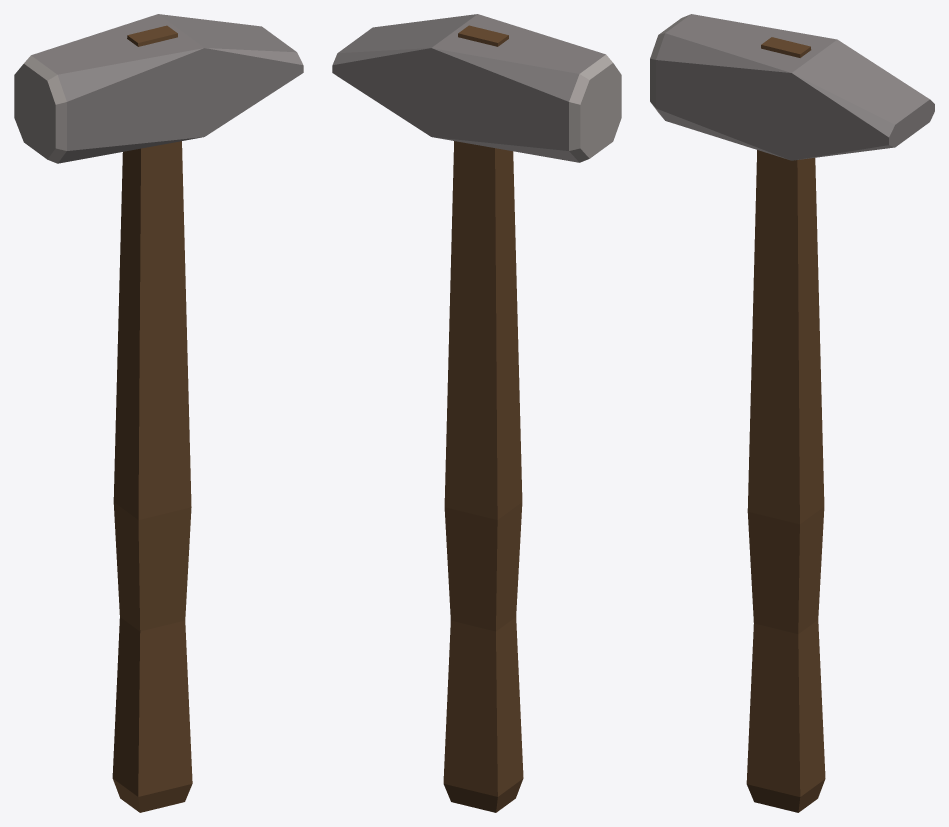
Rendered from tools_hammer.fbx.
The picture shows the model from 3 angles, left to right: view 1: azimuth 30°, elevation 25°; view 2: azimuth 150°, elevation 25°; view 3: azimuth 330°, elevation 25°; orthographic projection.
Visible parts, largest first — view 1: tools_hammer; view 2: tools_hammer; view 3: tools_hammer.
Boxes of the visible parts, x1,y1,x2,y2 form: tools_hammer: (14, 14, 303, 812); tools_hammer: (332, 14, 621, 812); tools_hammer: (650, 14, 934, 812).
Size of the model in its own units: 66.8 by 199 by 21.94.
